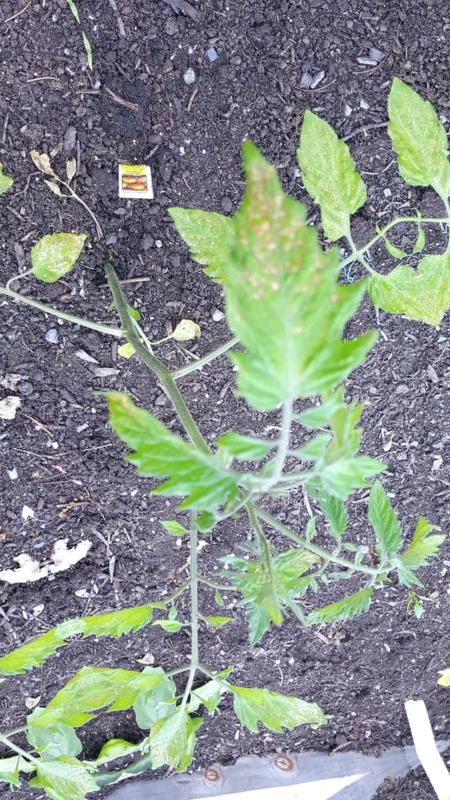Tomato leaf bacterial spot: (149, 119, 391, 453), (86, 355, 255, 542), (218, 646, 337, 761), (137, 688, 224, 782)
